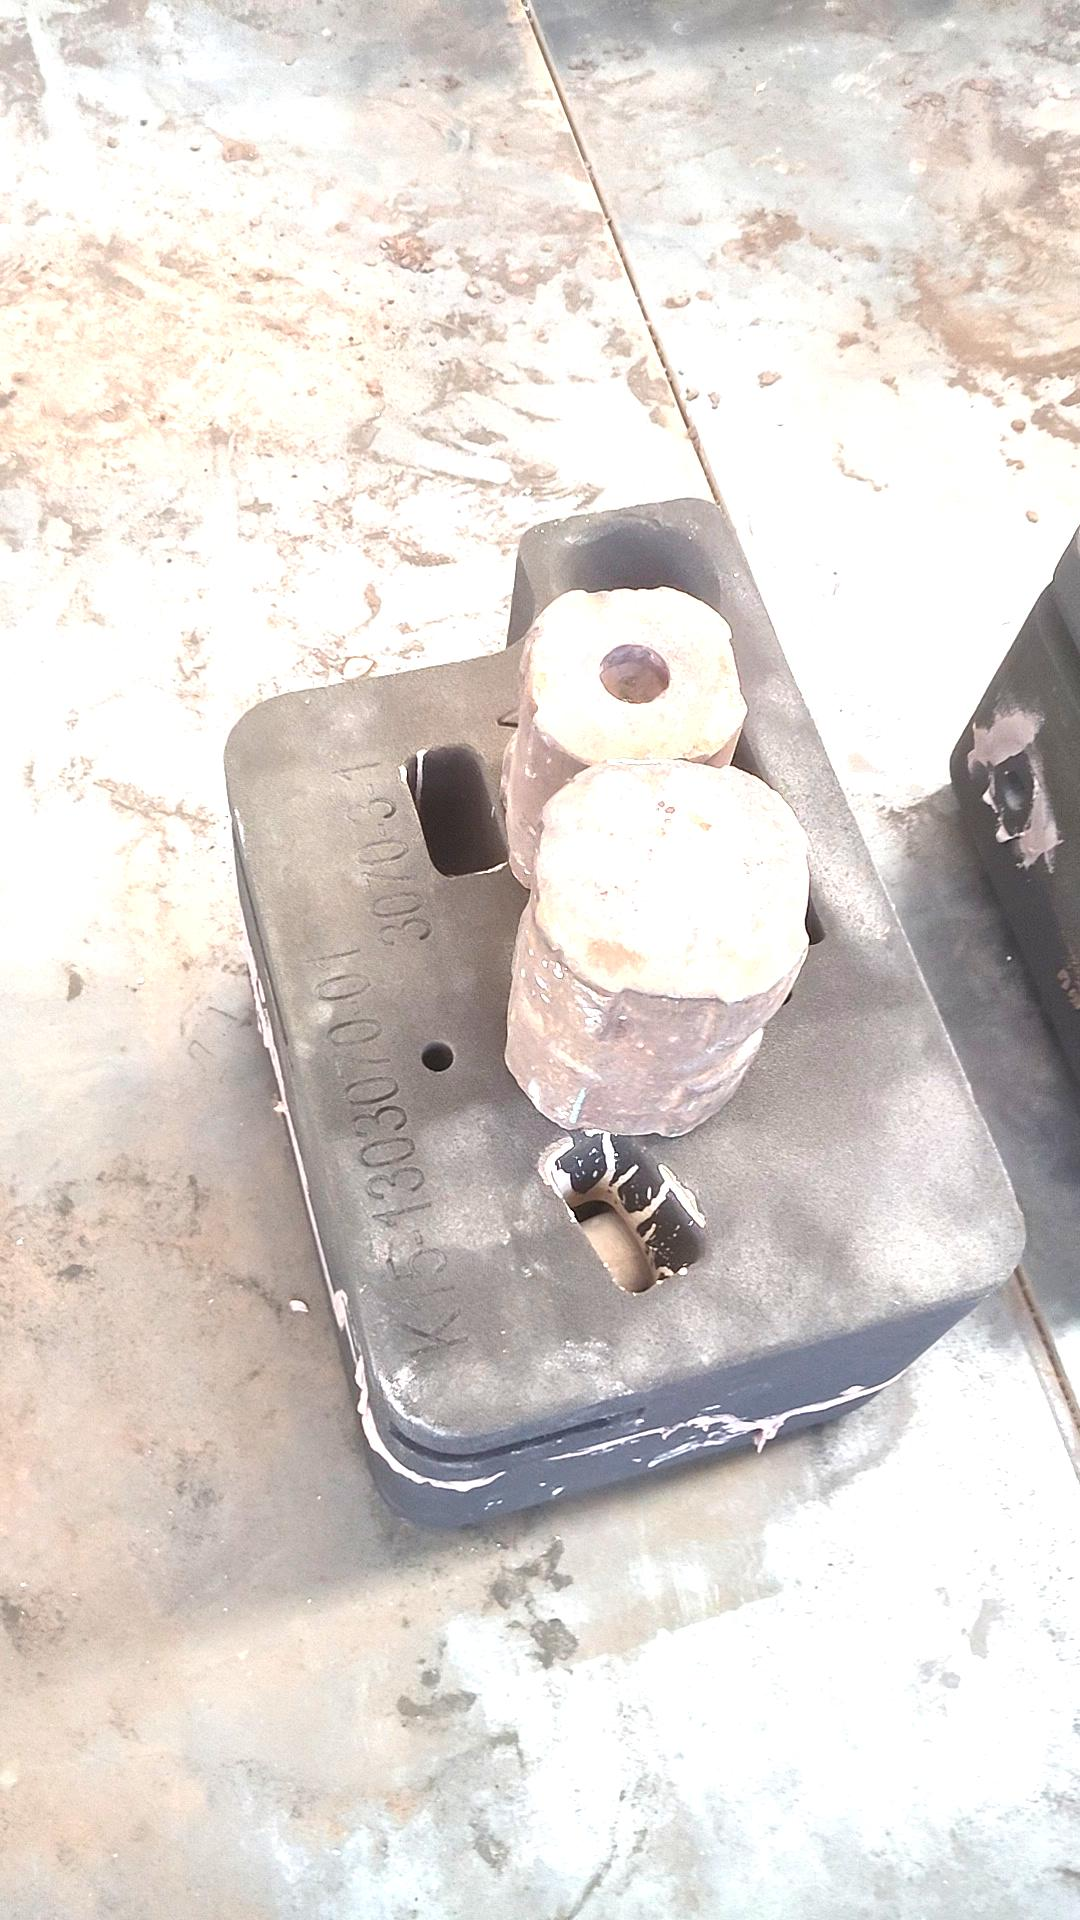pouring hole: (549, 522, 724, 640)
